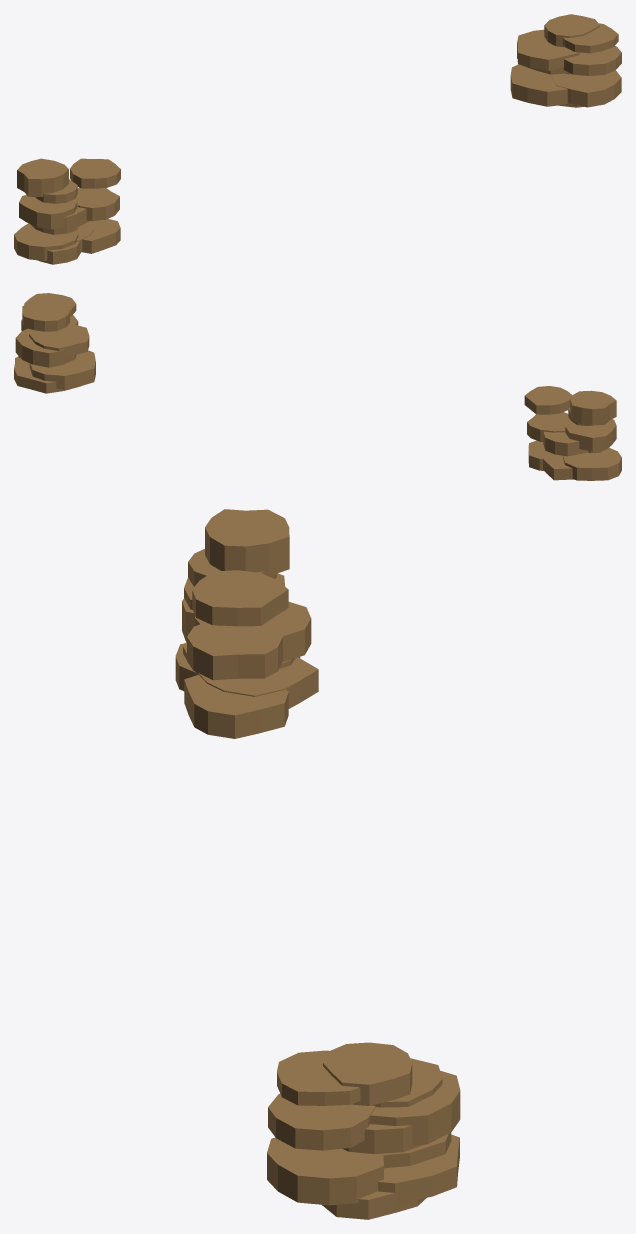
Rendered from MesasFar_RockBand.fbx.
3 views of the same model, one above another, from view 1: azimuth 30°, elevation 25°; view 2: azimuth 150°, elevation 25°; view 3: azimuth 270°, elevation 25° (orthographic). The views are drawn at different scales.
Visible parts, largest first — view 1: MesaFar0_1.001; view 2: MesaFar0_1.001; view 3: MesaFar0_1.001.
Boxes of the visible parts, x1=… form: MesaFar0_1.001: x1=14, y1=14, x2=621, y2=264; MesaFar0_1.001: x1=14, y1=293, x2=621, y2=480; MesaFar0_1.001: x1=175, y1=509, x2=460, y2=1219.
Bounding box in the file's own units: 56469 × 7462 × 12148.
